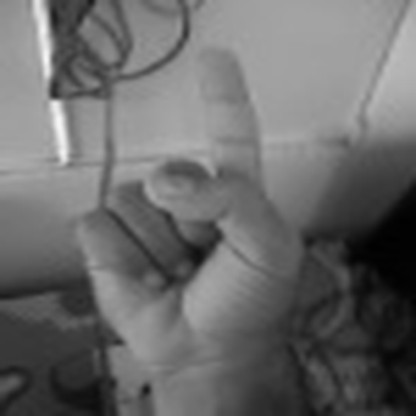d: (70, 46, 307, 366)
